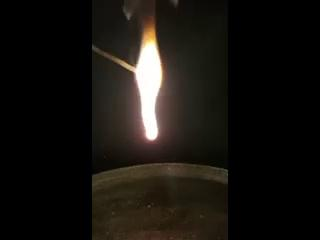Fire: (131, 22, 163, 140)
